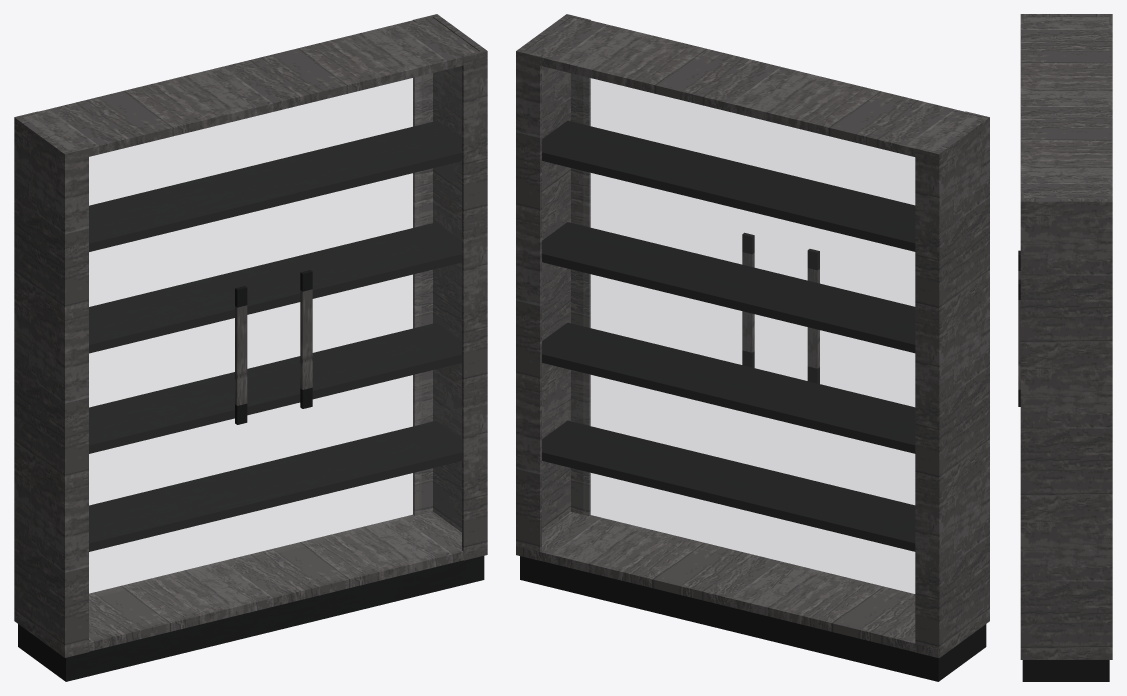
The model's file is F_Cabinet.fbx.
The picture shows the model from 3 angles, left to right: view 1: azimuth 30°, elevation 25°; view 2: azimuth 150°, elevation 25°; view 3: azimuth 270°, elevation 25°; orthographic projection. The views are drawn at different scales.
Parts seen in each view (by area): view 1: pCube10, pCube11, polySurface8, polySurface11, polySurface1, polySurface10, polySurface7, polySurface6, polySurface2, pCube8, pCube9; view 2: pCube10, pCube11, polySurface8, polySurface11, polySurface10, polySurface1, polySurface6, polySurface7, polySurface2, pCube8, pCube9; view 3: pCube11, polySurface8, polySurface2, pCube10, pCube8.
Part boxes in pixels (x1,y1,x2,y2): pCube10: (14,111,88,657); pCube11: (413,14,487,560); polySurface8: (22,17,478,156); polySurface11: (89,511,463,651); polySurface1: (89,420,461,551); polySurface10: (89,121,461,251); polySurface7: (89,222,461,353); polySurface6: (89,322,461,453); polySurface2: (18,556,484,681); pCube8: (300,270,312,408); pCube9: (235,286,247,424); pCube10: (915,111,989,658); pCube11: (516,14,590,560); polySurface8: (525,17,981,156); polySurface11: (516,512,938,657); polySurface10: (542,120,915,251); polySurface1: (542,420,915,551); polySurface6: (542,322,915,453); polySurface7: (542,222,915,353); polySurface2: (520,556,986,681); pCube8: (742,232,754,367); pCube9: (807,249,819,383); pCube11: (1020,191,1112,659); polySurface8: (1021,17,1112,198); polySurface2: (1022,660,1109,681); pCube10: (1020,14,1112,190); pCube8: (1018,279,1020,406).
Bounding box in the file's own units: 1.82 × 2.18 × 0.3879.
